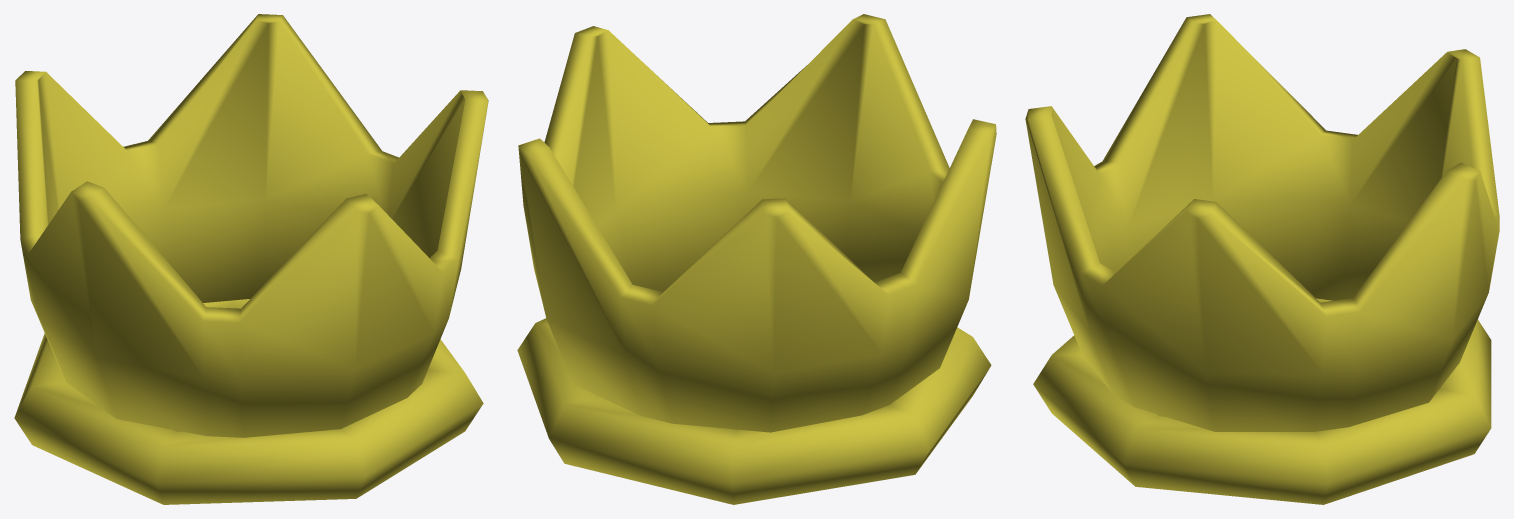
Rendered from corona_1_lowres.fbx.
3 renders of one model, left to right at view 1: azimuth 30°, elevation 25°; view 2: azimuth 150°, elevation 25°; view 3: azimuth 270°, elevation 25°, orthographic.
Visible parts, largest first — view 1: Corona_1; view 2: Corona_1; view 3: Corona_1.
Part boxes in pixels (<box>): Corona_1: <box>14,14,488,504</box>; Corona_1: <box>517,14,996,504</box>; Corona_1: <box>1025,14,1499,504</box>.
Bounding box in the file's own units: 58.45 × 41.07 × 58.38.
